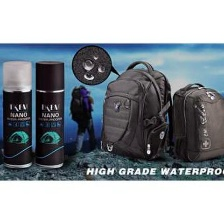aerosol_cans: (0, 57, 37, 171), (31, 58, 67, 170)
